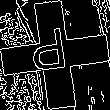P_S: (33, 27, 77, 83)
